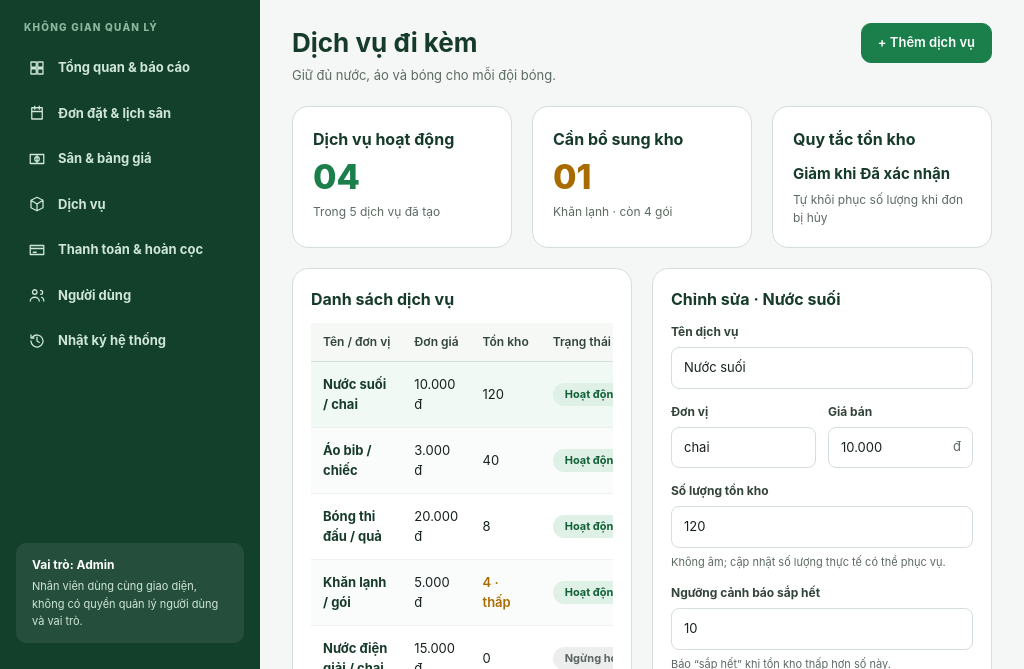
Scenario: Admin Dịch vụ - sửa và thêm › sửa giá + tồn kho: chỉ gửi trường đổi, báo thành công và tải lại danh sách
Expected: the heading "Chỉnh sửa · Nước suối" is shown, [671, 289, 840, 309]
Replace the text in the field labelled "Giá bán" with "12000" at (900,447), box [828, 426, 973, 468]
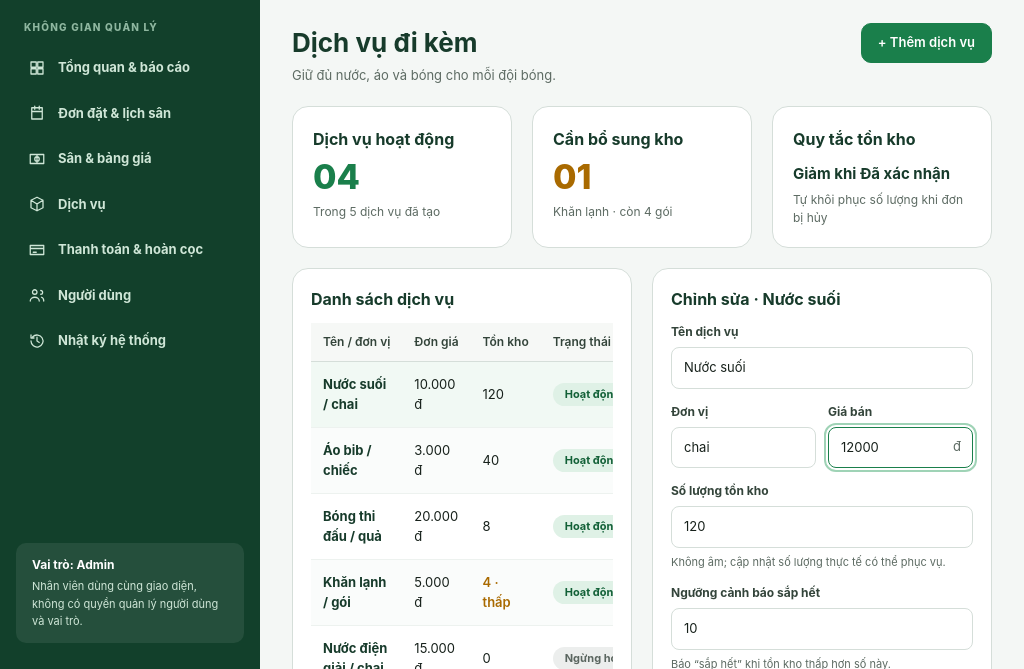
Replace the text in the field labelled "Số lượng tồn kho" with "100" at (822,527), box [671, 506, 973, 548]
(page scrolled)
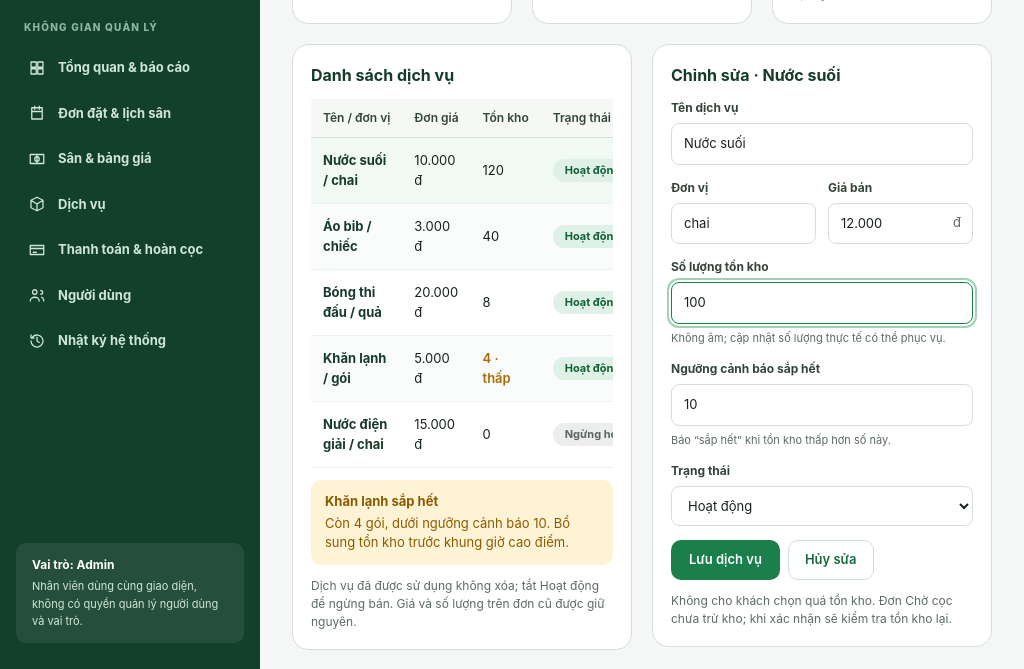
Click the button "Lưu dịch vụ".
click(725, 560)  # box [671, 540, 780, 580]
(page scrolled)
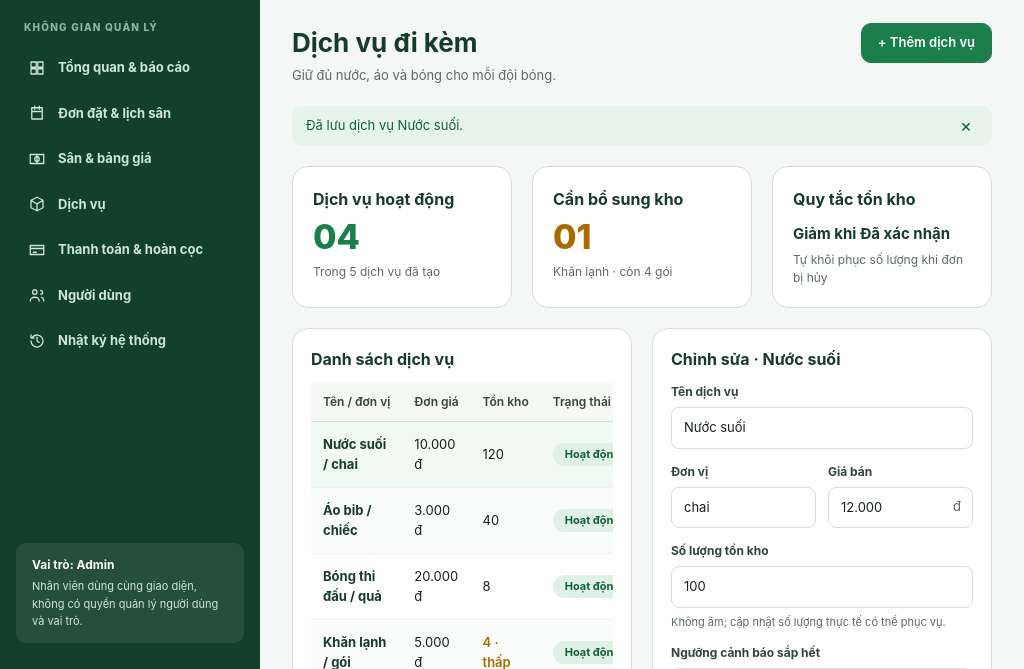
Now the text "Đã lưu dịch vụ Nước suối." is shown, box [306, 116, 463, 136]
